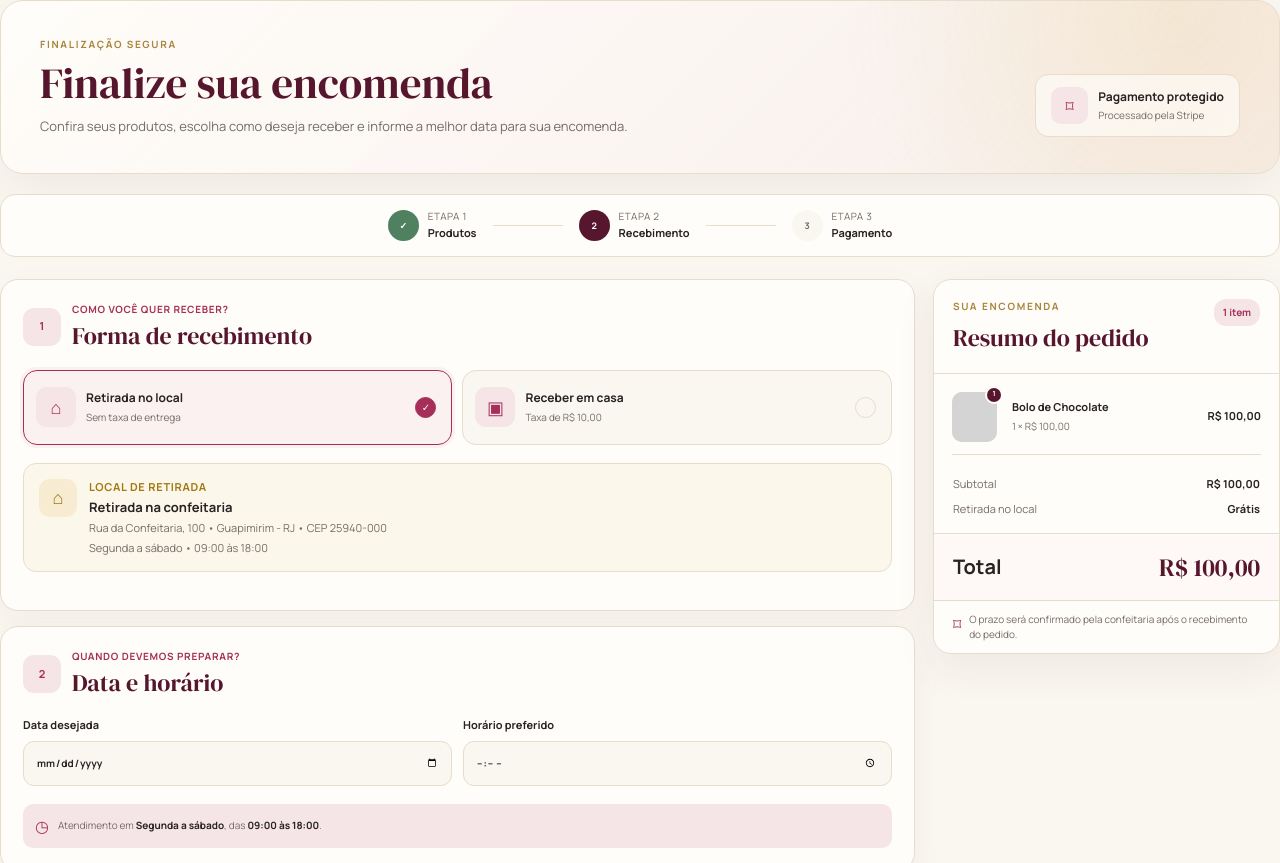
Test: Payment - validações › exige endereço para entrega
Click the button "▣ Receber em casa Taxa de R$ 10,00": (495, 407) [462,370,892,445]
(page scrolled)
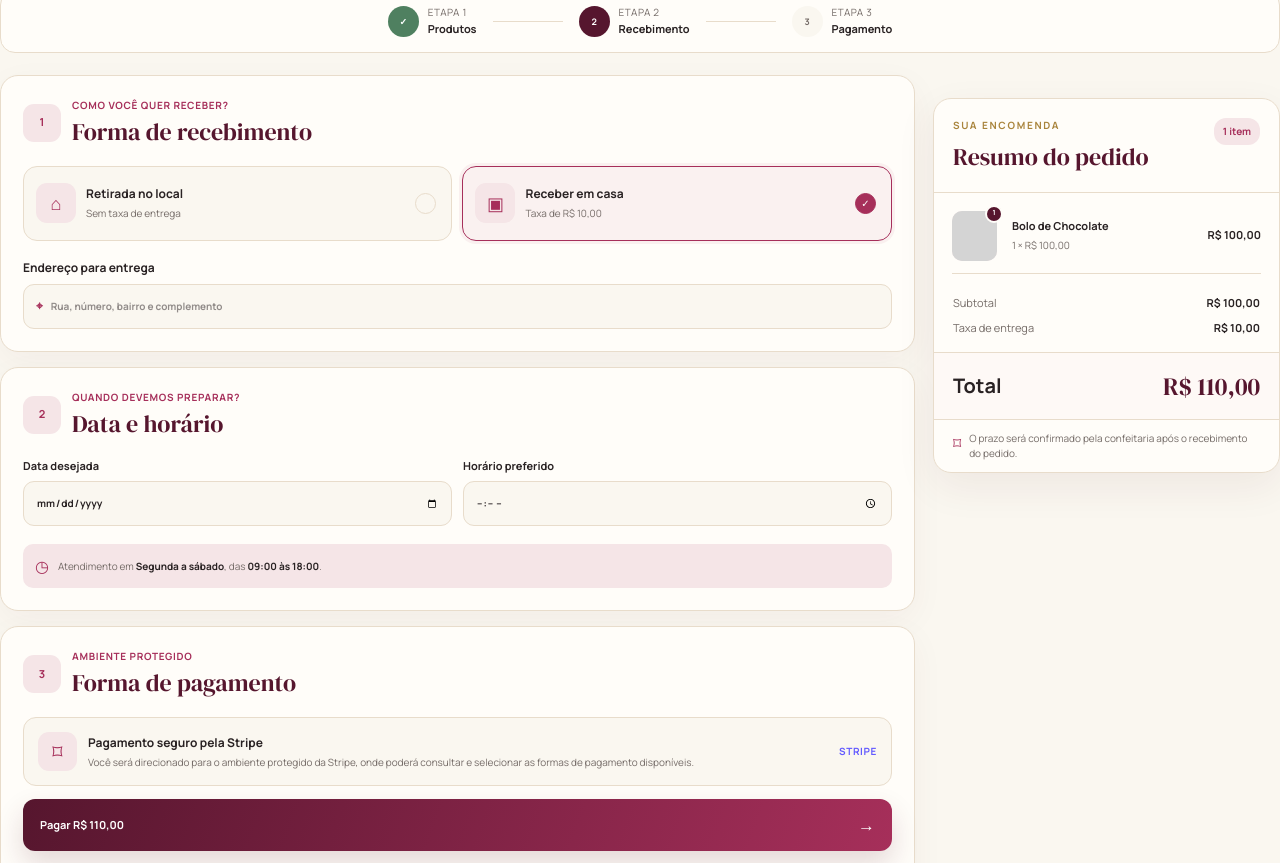
Click the button "Pagar R$ 110,00 →": (82, 824) [23,799,892,851]
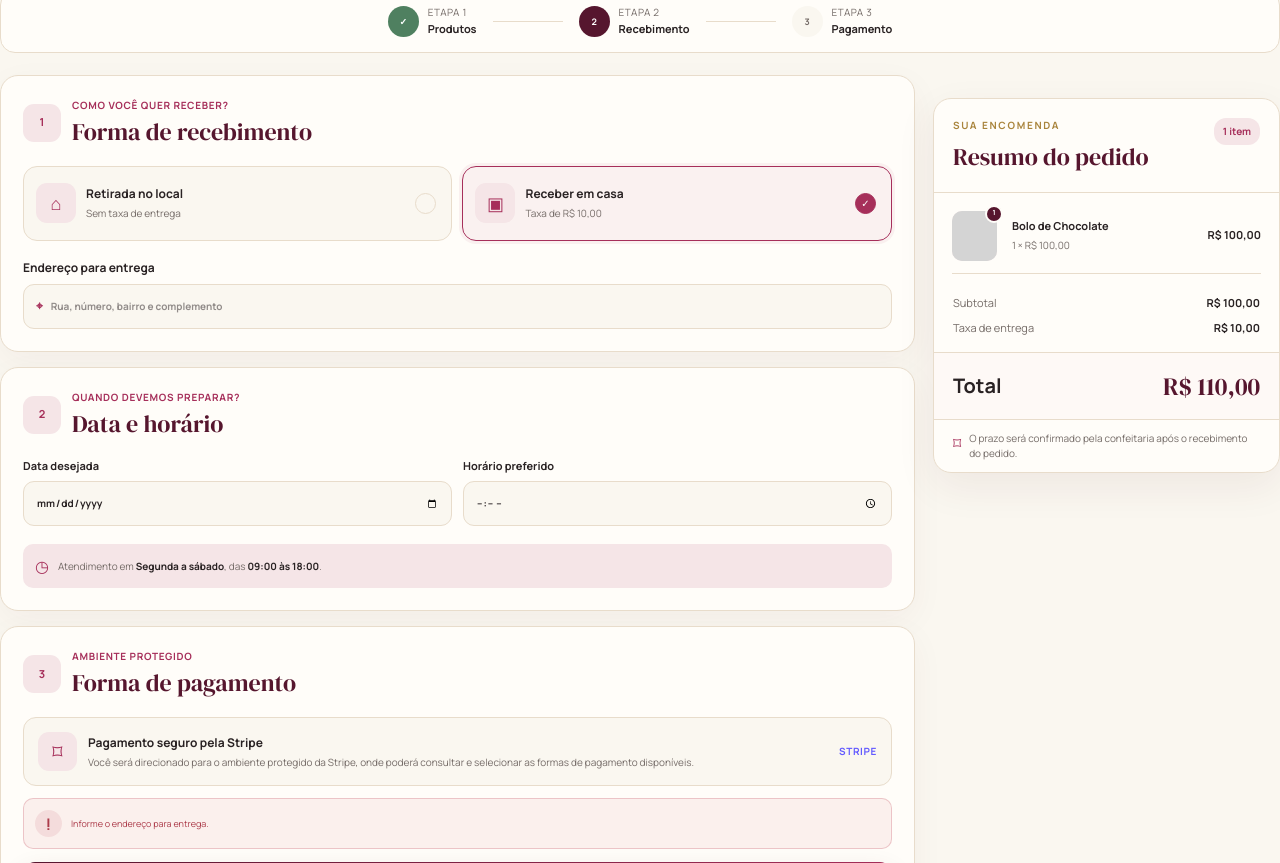
Expected: the message shows "Informe o endereço para entrega.", [71,817,208,830]
